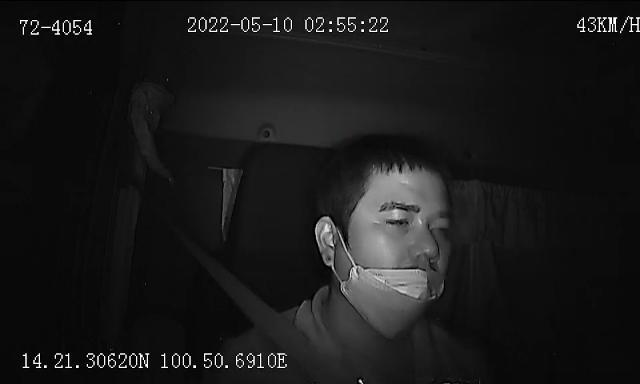SafeDriving: (378, 208, 416, 232), (426, 213, 456, 238)
Seatbelt: (204, 258, 310, 356)
